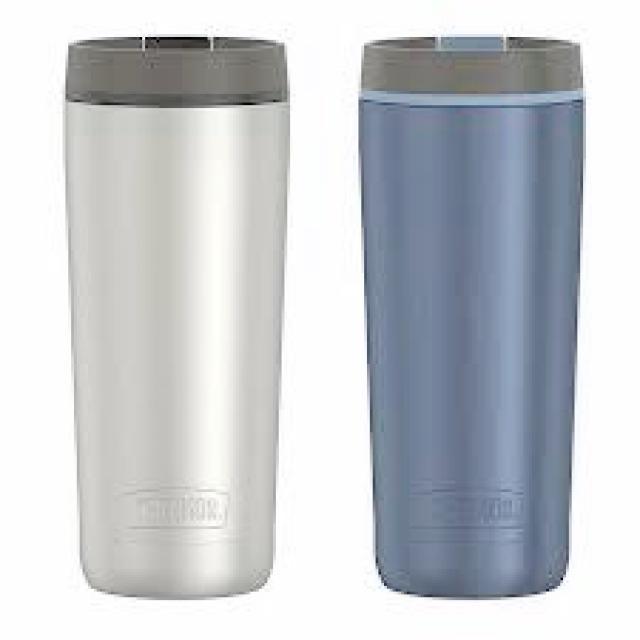bottle: (346, 31, 598, 606), (59, 33, 298, 604)
